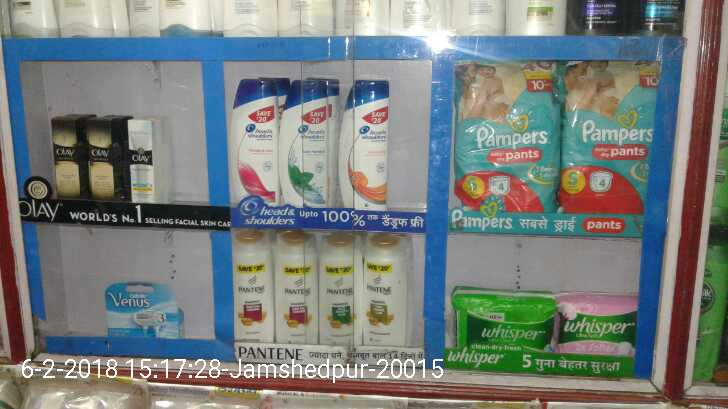venus: (106, 285, 180, 335)
